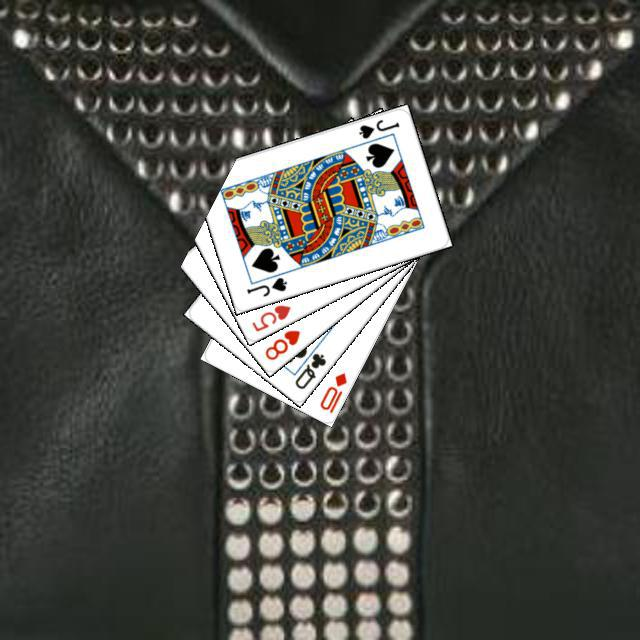10d: (315, 368, 349, 415)
5h: (247, 300, 292, 333)
8h: (260, 325, 302, 362)
Js: (241, 272, 288, 298), (354, 114, 401, 140)
Qc: (287, 340, 328, 391)
